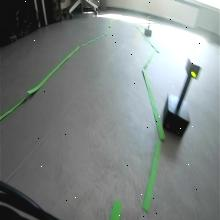green: (185, 56, 201, 82)
